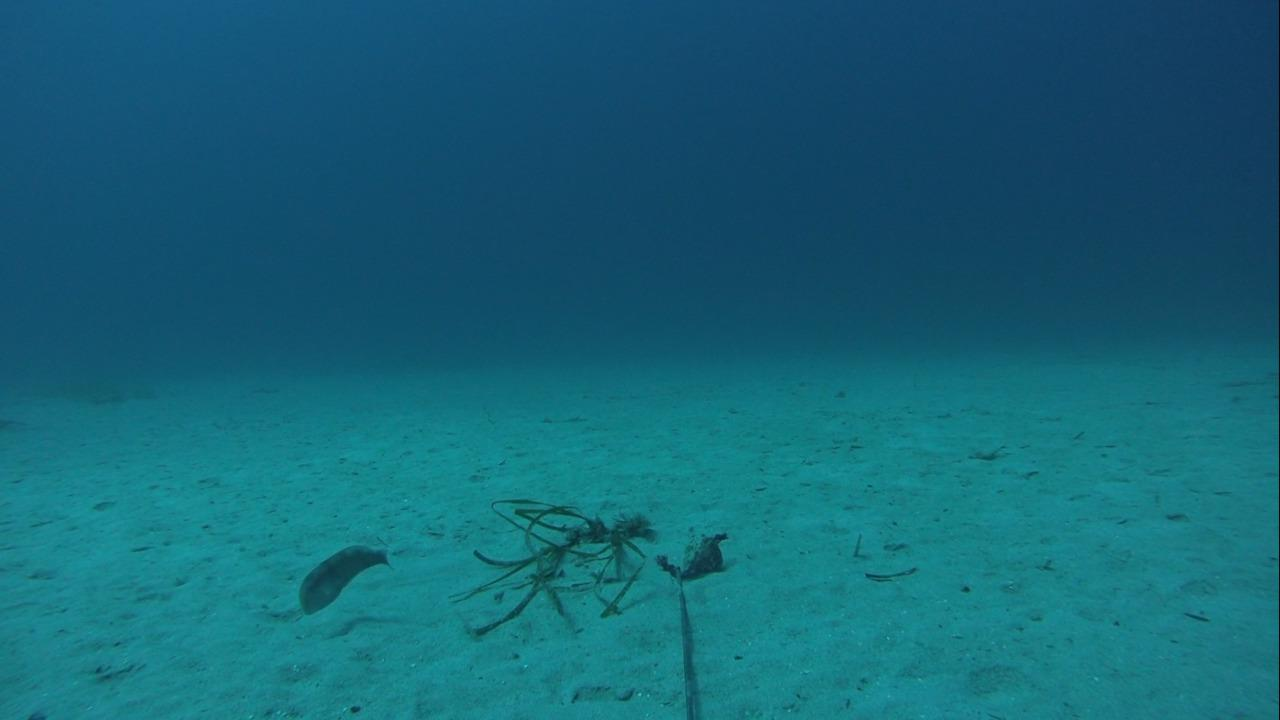raor: (295, 540, 394, 618)
